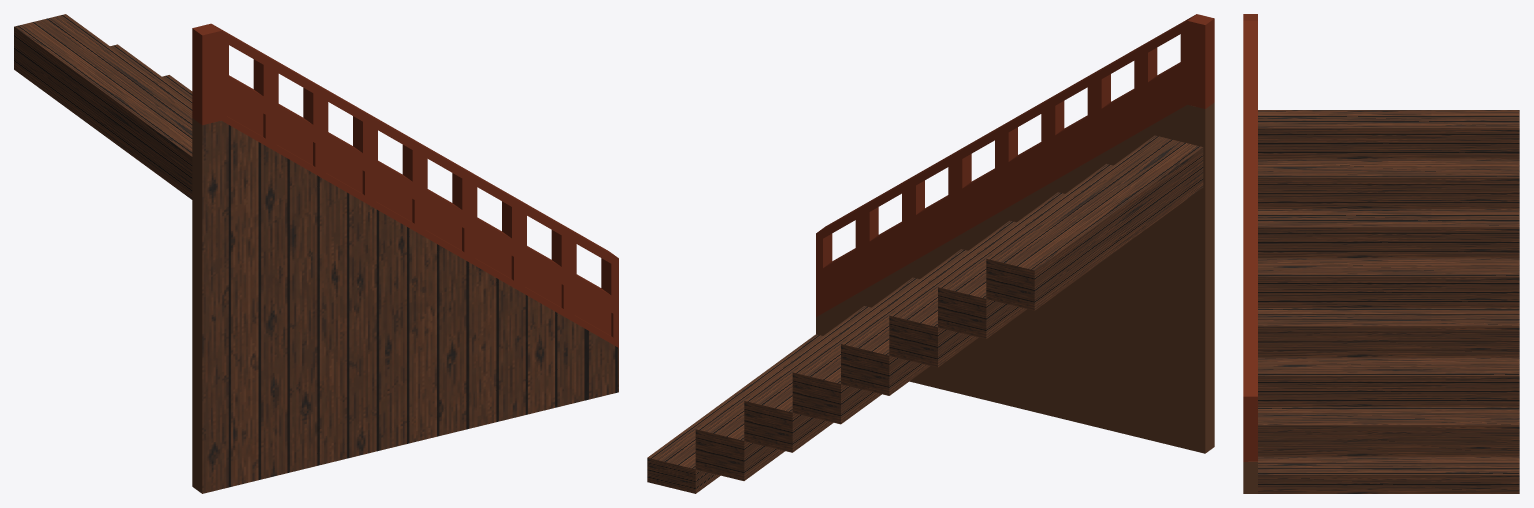
Rendered from stairs.glb.
The picture shows the model from 3 angles, left to right: view 1: azimuth 30°, elevation 25°; view 2: azimuth 150°, elevation 25°; view 3: azimuth 270°, elevation 25°; orthographic projection. The views are drawn at different scales.
Visible parts, largest first — view 1: 平面.005; view 2: 平面.005; view 3: 平面.005.
Part boxes in pixels (box(x1,y1,x2,y2)): 平面.005: box(14, 14, 618, 493); 平面.005: box(647, 14, 1214, 493); 平面.005: box(1243, 14, 1519, 493).
Size of the model in its own units: 5.24 by 5.51 by 4.14.
2 materials, 2 textured.
